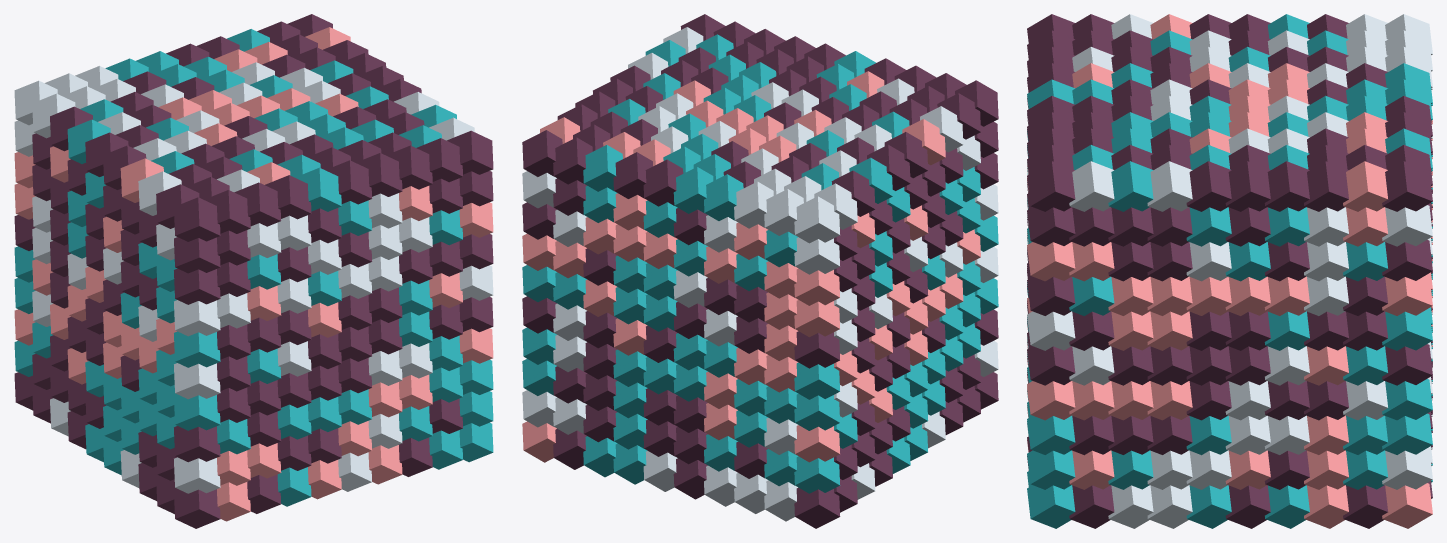
3 views of the same model, side by side, from view 1: azimuth 30°, elevation 25°; view 2: azimuth 150°, elevation 25°; view 3: azimuth 270°, elevation 25° (orthographic). The views are drawn at different scales.
Visible parts, largest first — view 1: main_object.999, main_object.009, main_object.008, main_object.005, main_object.006, main_object.007, main_object.609, main_object.709, main_object.109, main_object.906, main_object.907, main_object.019 (+47 smaller); view 2: main_object.999, main_object.090, main_object.091, main_object.499, main_object.399, main_object.009, main_object.290, main_object.190, main_object.019, main_object.049, main_object.291, main_object.292 (+35 smaller); view 3: main_object.999, main_object.907, main_object.906, main_object.930, main_object.920, main_object.940, main_object.921, main_object.931, main_object.941, main_object.951, main_object.952, main_object.961 (+19 smaller).
Boxes of the visible parts, x1,y1,x2,y2 form: main_object.999: [14, 14, 493, 528]; main_object.009: [174, 197, 220, 241]; main_object.008: [174, 237, 220, 273]; main_object.005: [174, 331, 220, 367]; main_object.006: [174, 300, 220, 336]; main_object.007: [174, 268, 220, 304]; main_object.609: [356, 153, 402, 196]; main_object.709: [386, 145, 432, 189]; main_object.109: [204, 190, 250, 233]; main_object.906: [459, 234, 493, 269]; main_object.907: [459, 202, 493, 237]; main_object.019: [156, 184, 199, 228]; main_object.999: [522, 14, 998, 512]; main_object.090: [794, 487, 840, 528]; main_object.091: [794, 456, 840, 493]; main_object.499: [673, 167, 713, 213]; main_object.399: [704, 174, 743, 220]; main_object.009: [955, 80, 998, 126]; main_object.290: [734, 473, 767, 513]; main_object.190: [764, 480, 797, 521]; main_object.019: [937, 93, 980, 139]; main_object.049: [884, 132, 928, 178]; main_object.291: [734, 441, 767, 478]; main_object.292: [734, 410, 767, 447]; main_object.999: [1027, 14, 1432, 528]; main_object.907: [1027, 242, 1075, 281]; main_object.906: [1027, 276, 1075, 315]; main_object.930: [1147, 485, 1192, 528]; main_object.920: [1108, 485, 1153, 528]; main_object.940: [1186, 485, 1231, 528]; main_object.921: [1108, 450, 1153, 489]; main_object.931: [1147, 450, 1192, 489]; main_object.941: [1186, 450, 1231, 489]; main_object.951: [1225, 450, 1270, 489]; main_object.952: [1225, 415, 1270, 454]; main_object.961: [1264, 450, 1309, 489].
Bounding box in the file's own units: 19 × 19 × 19.
